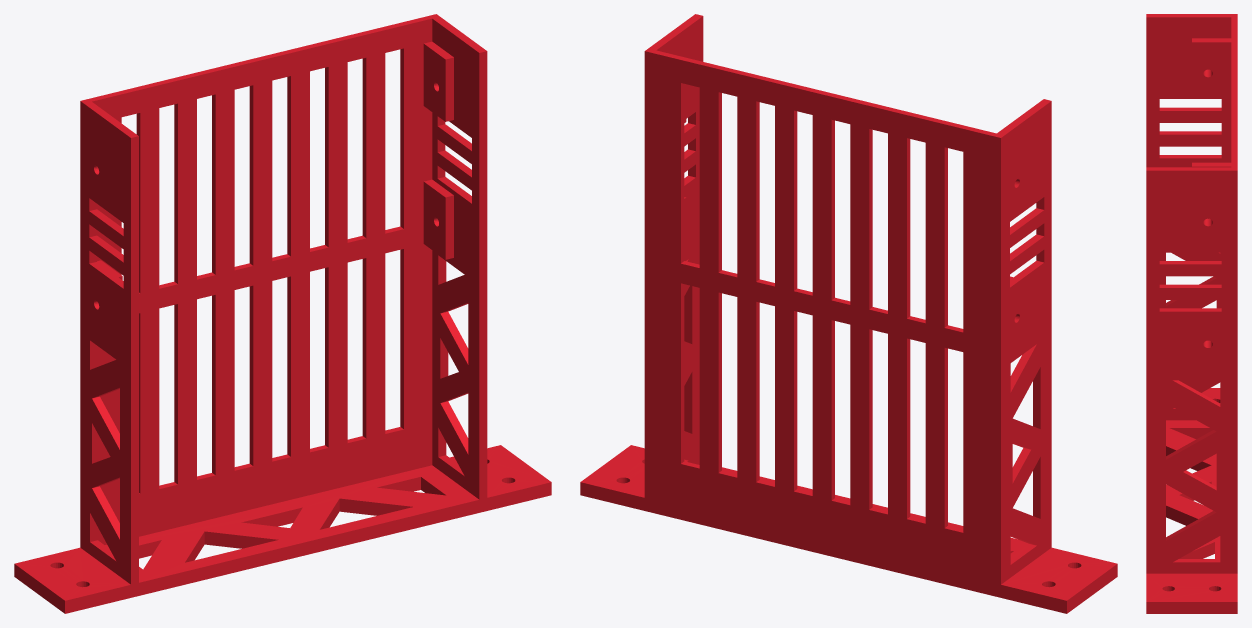
Rendered from tinker.obj.
3 views of the same model, side by side, from view 1: azimuth 30°, elevation 25°; view 2: azimuth 150°, elevation 25°; view 3: azimuth 270°, elevation 25° (orthographic). The views are drawn at different scales.
Visible parts, largest first — view 1: obj_0; view 2: obj_0; view 3: obj_0.
Boxes of the visible parts, x1,y1,x2,y2 form: obj_0: (14, 14, 551, 613); obj_0: (580, 14, 1117, 613); obj_0: (1146, 14, 1237, 613).
Bounding box in the file's own units: 155 × 140 × 28.
